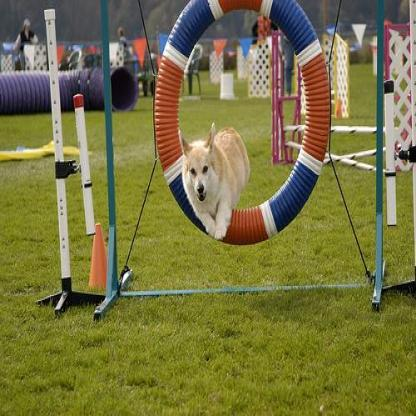Pembroke: (173, 120, 255, 245)
